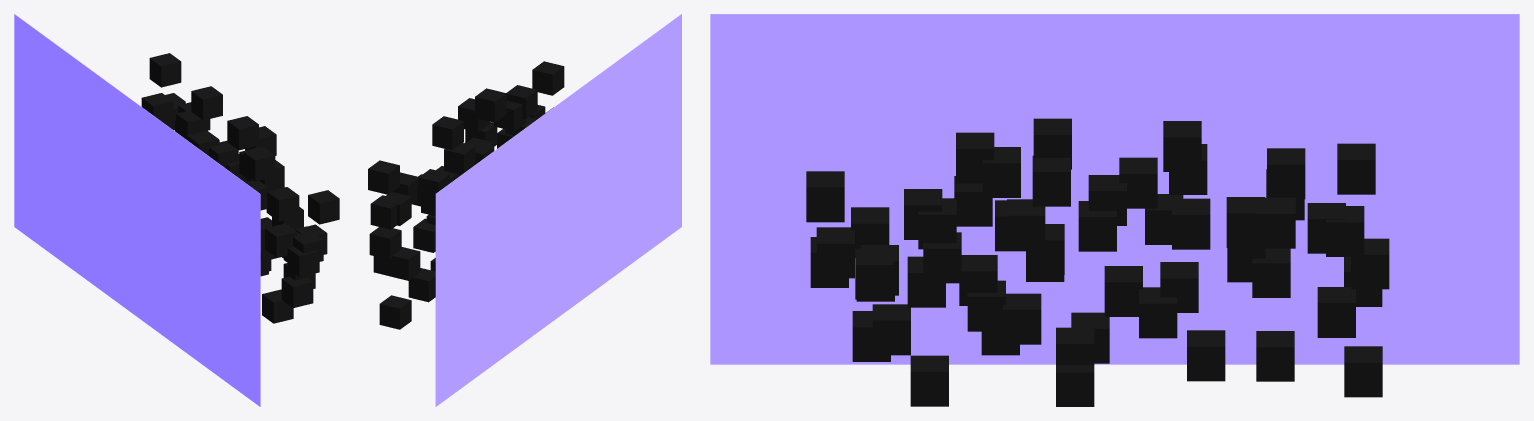
File: Block Wall A.fbx
The picture shows the model from 3 angles, left to right: view 1: azimuth 30°, elevation 25°; view 2: azimuth 150°, elevation 25°; view 3: azimuth 270°, elevation 25°; orthographic projection. The views are drawn at different scales.
Visible parts, largest first — view 1: Purple_Wall, Cube_1_32, Cube_1_43, Cube_1_51, Cube_1_37, Cube_1_54, Cube_1_52, Cube_1_10, Cube_1_31, Cube_1_27, Cube_1_0, Cube_1_53 (+9 smaller); view 2: Purple_Wall, Cube_1_3, Cube_1_37, Cube_1_51, Cube_1_52, Cube_1_54, Cube_1_18, Cube_1_8, Cube_1_46, Cube_1_53, Cube_1_4, Cube_1_34 (+8 smaller); view 3: Purple_Wall, Cube_1_3, Cube_1_29, Cube_1_37, Cube_1_50, Cube_1_51, Cube_1_0, Cube_1_1, Cube_1_45, Cube_1_6, Cube_1_28, Cube_1_12 (+37 smaller).
Part boxes in pixels (x1=…): Purple_Wall: x1=14, y1=14, x2=260, y2=406; Cube_1_32: x1=267, y1=187, x2=299, y2=221; Cube_1_43: x1=243, y1=147, x2=275, y2=181; Cube_1_51: x1=149, y1=53, x2=181, y2=87; Cube_1_37: x1=308, y1=190, x2=339, y2=224; Cube_1_54: x1=191, y1=86, x2=222, y2=120; Cube_1_52: x1=227, y1=116, x2=258, y2=150; Cube_1_10: x1=281, y1=276, x2=313, y2=307; Cube_1_31: x1=265, y1=223, x2=296, y2=257; Cube_1_27: x1=287, y1=246, x2=319, y2=277; Cube_1_0: x1=262, y1=289, x2=293, y2=323; Cube_1_53: x1=141, y1=93, x2=173, y2=122; Purple_Wall: x1=435, y1=14, x2=681, y2=406; Cube_1_3: x1=379, y1=295, x2=411, y2=329; Cube_1_37: x1=532, y1=61, x2=564, y2=95; Cube_1_51: x1=368, y1=160, x2=399, y2=194; Cube_1_52: x1=475, y1=88, x2=506, y2=122; Cube_1_54: x1=432, y1=116, x2=463, y2=149; Cube_1_18: x1=369, y1=227, x2=401, y2=259; Cube_1_8: x1=388, y1=247, x2=420, y2=280; Cube_1_46: x1=444, y1=143, x2=475, y2=174; Cube_1_53: x1=418, y1=169, x2=450, y2=202; Cube_1_4: x1=408, y1=268, x2=435, y2=302; Cube_1_34: x1=370, y1=195, x2=396, y2=229; Purple_Wall: x1=710, y1=14, x2=1519, y2=364; Cube_1_3: x1=1344, y1=346, x2=1382, y2=397; Cube_1_29: x1=855, y1=248, x2=893, y2=299; Cube_1_37: x1=806, y1=171, x2=844, y2=222; Cube_1_50: x1=1257, y1=197, x2=1295, y2=248; Cube_1_51: x1=1337, y1=143, x2=1375, y2=194; Cube_1_0: x1=910, y1=355, x2=948, y2=406; Cube_1_1: x1=1187, y1=330, x2=1225, y2=381; Cube_1_45: x1=1172, y1=198, x2=1210, y2=249; Cube_1_6: x1=872, y1=304, x2=910, y2=355; Cube_1_28: x1=816, y1=227, x2=854, y2=278; Cube_1_12: x1=1003, y1=293, x2=1041, y2=344.
Bounding box in the file's own units: 5239 × 9162 × 19178.
